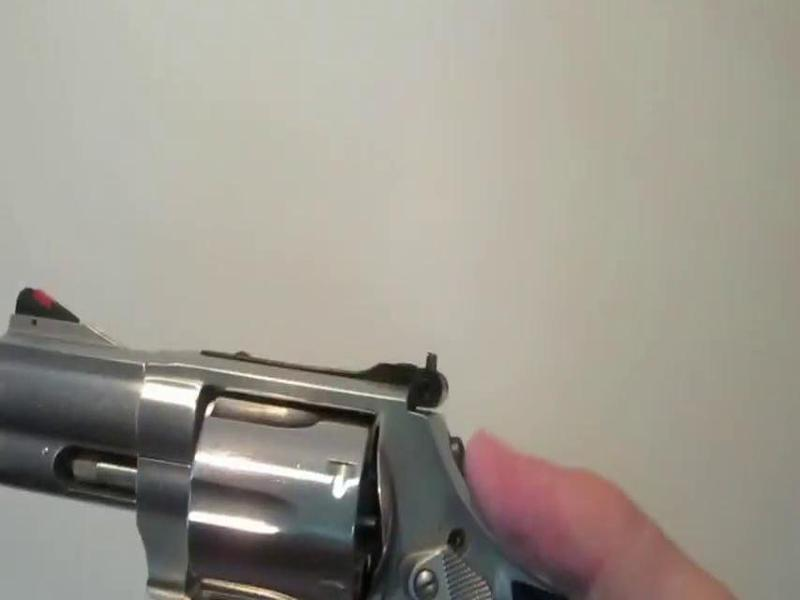Revolver: (6, 277, 562, 600)
